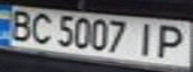0: (90, 16, 112, 52), (72, 15, 93, 51)
5: (51, 11, 75, 48)
7: (106, 17, 130, 54)
B: (3, 7, 36, 42)
C: (27, 10, 57, 45)
I: (130, 20, 163, 57)
P: (151, 21, 190, 61)
